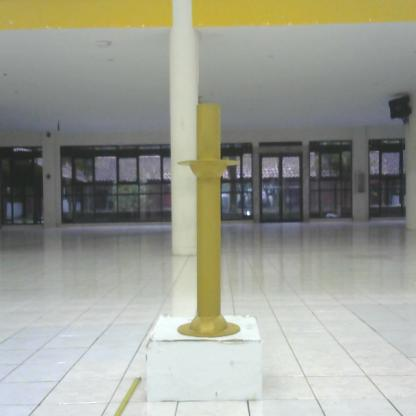pole: (169, 101, 247, 348)
